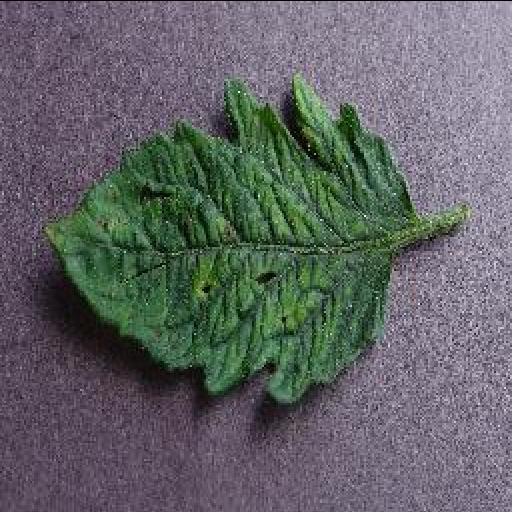disease_tomato: (38, 70, 416, 404)
